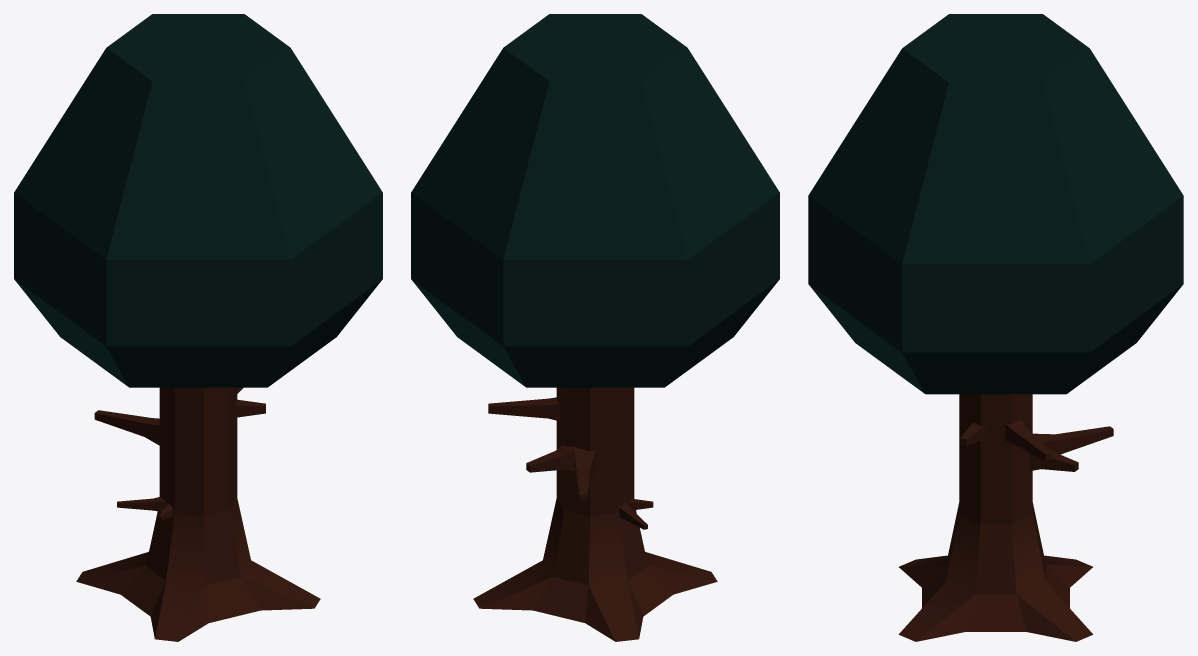
The model's file is Tree7.fbx.
The picture shows the model from 3 angles, left to right: view 1: azimuth 30°, elevation 25°; view 2: azimuth 150°, elevation 25°; view 3: azimuth 270°, elevation 25°; orthographic projection.
Visible parts, largest first — view 1: mergedBlocks; view 2: mergedBlocks; view 3: mergedBlocks.
Boxes of the visible parts, left/top/right/bottom form: mergedBlocks: left=14, top=14, right=382, bottom=641; mergedBlocks: left=411, top=14, right=779, bottom=641; mergedBlocks: left=808, top=14, right=1183, bottom=641.
Bounding box in the file's own units: 16 × 30 × 18.48.
